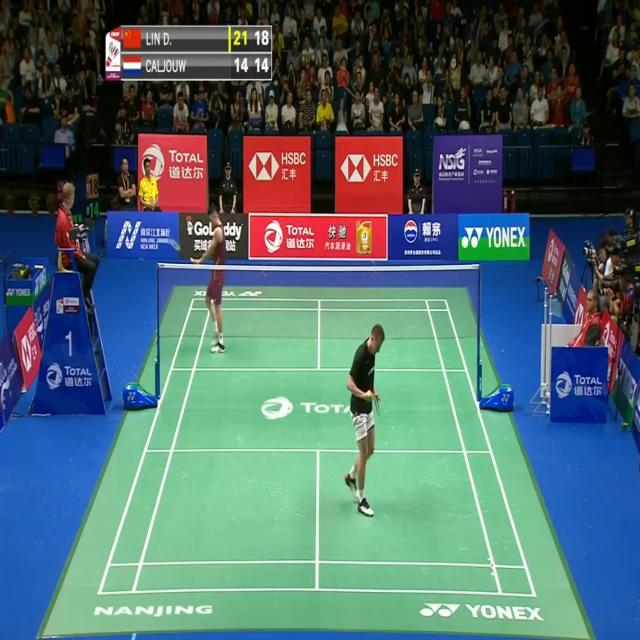Player1: (342, 320, 387, 523)
Player2: (187, 204, 231, 358)
